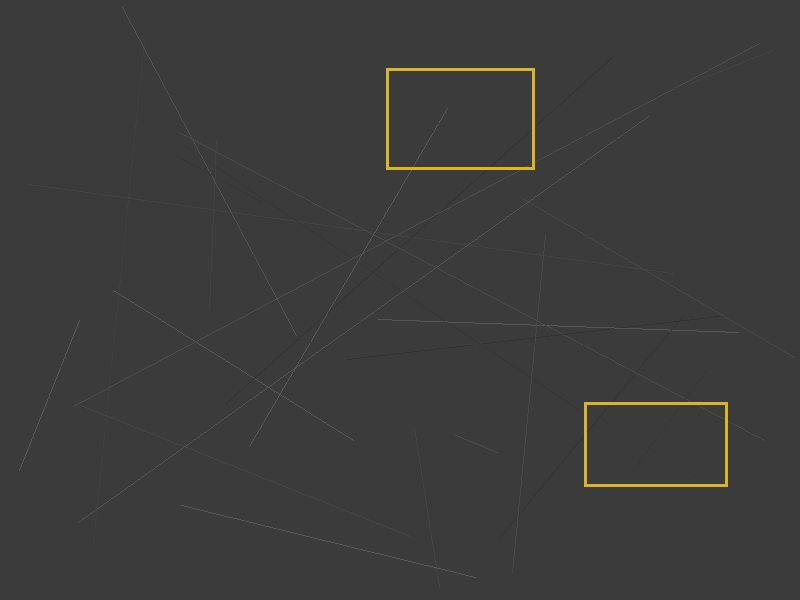D00: (584, 402, 727, 486)
D10: (386, 68, 534, 169)
